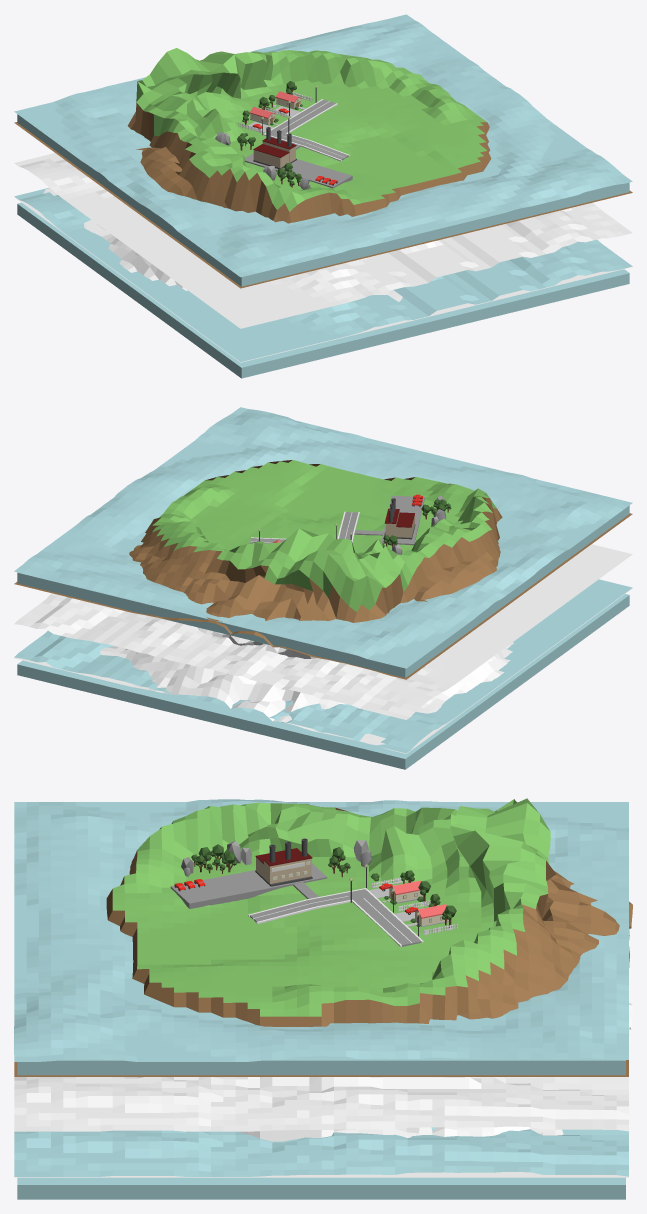
3 views of the same model, one above another, from view 1: azimuth 30°, elevation 25°; view 2: azimuth 150°, elevation 25°; view 3: azimuth 270°, elevation 25° (orthographic). The views are drawn at different scales.
Visible parts, largest first — view 1: Plane, Plane.2, Snow, Waves.2, Cube, Water.2, Iceberg, Tube.3, Cube.20, Cube.3; view 2: Plane, Plane.2, Snow, Waves.2, Cube, Water.2, Iceberg, Tube.3, Cube.20; view 3: Plane, Plane.2, Snow, Waves.2, Cube, Water.2, Iceberg, Cube.20, Tube.3, Cube.3, House.
Part boxes in pixels (bbox=[...]): Plane: bbox=[14, 48, 632, 288]; Plane.2: bbox=[14, 14, 632, 277]; Snow: bbox=[14, 153, 632, 328]; Waves.2: bbox=[14, 187, 632, 361]; Cube: bbox=[17, 65, 629, 286]; Water.2: bbox=[17, 202, 629, 378]; Iceberg: bbox=[14, 188, 632, 362]; Tube.3: bbox=[253, 127, 296, 168]; Cube.20: bbox=[245, 153, 352, 188]; Cube.3: bbox=[274, 99, 335, 132]; Plane: bbox=[14, 460, 632, 679]; Plane.2: bbox=[14, 407, 632, 668]; Snow: bbox=[14, 544, 632, 719]; Waves.2: bbox=[14, 579, 632, 753]; Cube: bbox=[17, 408, 629, 677]; Water.2: bbox=[17, 594, 629, 769]; Iceberg: bbox=[14, 588, 632, 753]; Tube.3: bbox=[384, 498, 415, 539]; Cube.20: bbox=[381, 495, 424, 545]; Plane: bbox=[14, 798, 632, 1076]; Plane.2: bbox=[14, 799, 628, 1061]; Snow: bbox=[14, 1077, 628, 1131]; Waves.2: bbox=[14, 1127, 628, 1176]; Cube: bbox=[17, 803, 625, 1075]; Water.2: bbox=[17, 1177, 625, 1199]; Iceberg: bbox=[14, 1002, 632, 1177]; Cube.20: bbox=[170, 863, 327, 908]; Tube.3: bbox=[255, 838, 312, 886]; Cube.3: bbox=[353, 896, 421, 946]; House: bbox=[388, 880, 423, 903].
Size of the model in its own units: 5004 by 1985 by 5034.
